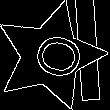O_W: (19, 29, 82, 83)
